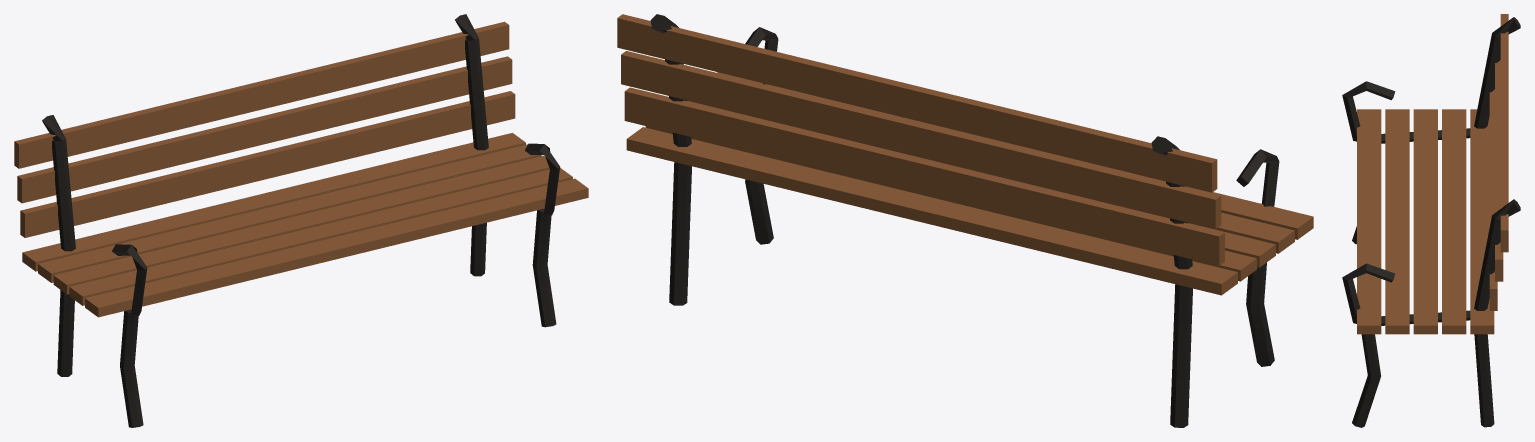
The picture shows the model from 3 angles, left to right: view 1: azimuth 30°, elevation 25°; view 2: azimuth 150°, elevation 25°; view 3: azimuth 270°, elevation 25°; orthographic projection. The views are drawn at different scales.
Visible parts, largest first — view 1: bench.lod0; view 2: bench.lod0; view 3: bench.lod0.
Boxes of the visible parts, x1,y1,x2,y2 form: bench.lod0: (14, 14, 588, 427); bench.lod0: (617, 14, 1313, 427); bench.lod0: (1342, 14, 1520, 427).
Size of the model in its own units: 1.9 by 0.9248 by 0.6625.
